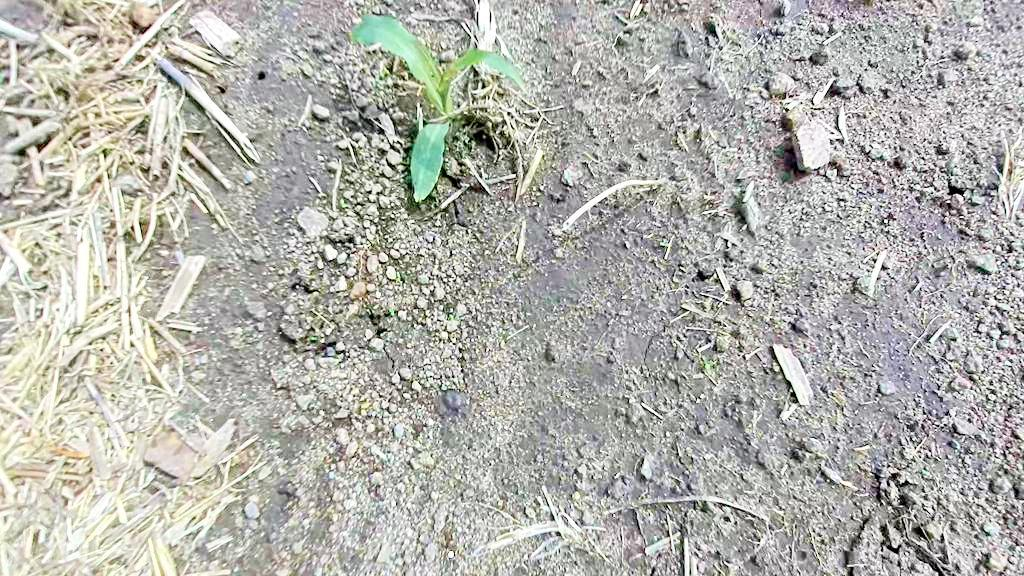BroWeed: (816, 459, 859, 497), (299, 59, 317, 79), (357, 399, 371, 419), (375, 65, 391, 80), (386, 305, 398, 317), (340, 198, 352, 208), (309, 335, 319, 342), (396, 270, 401, 278)
